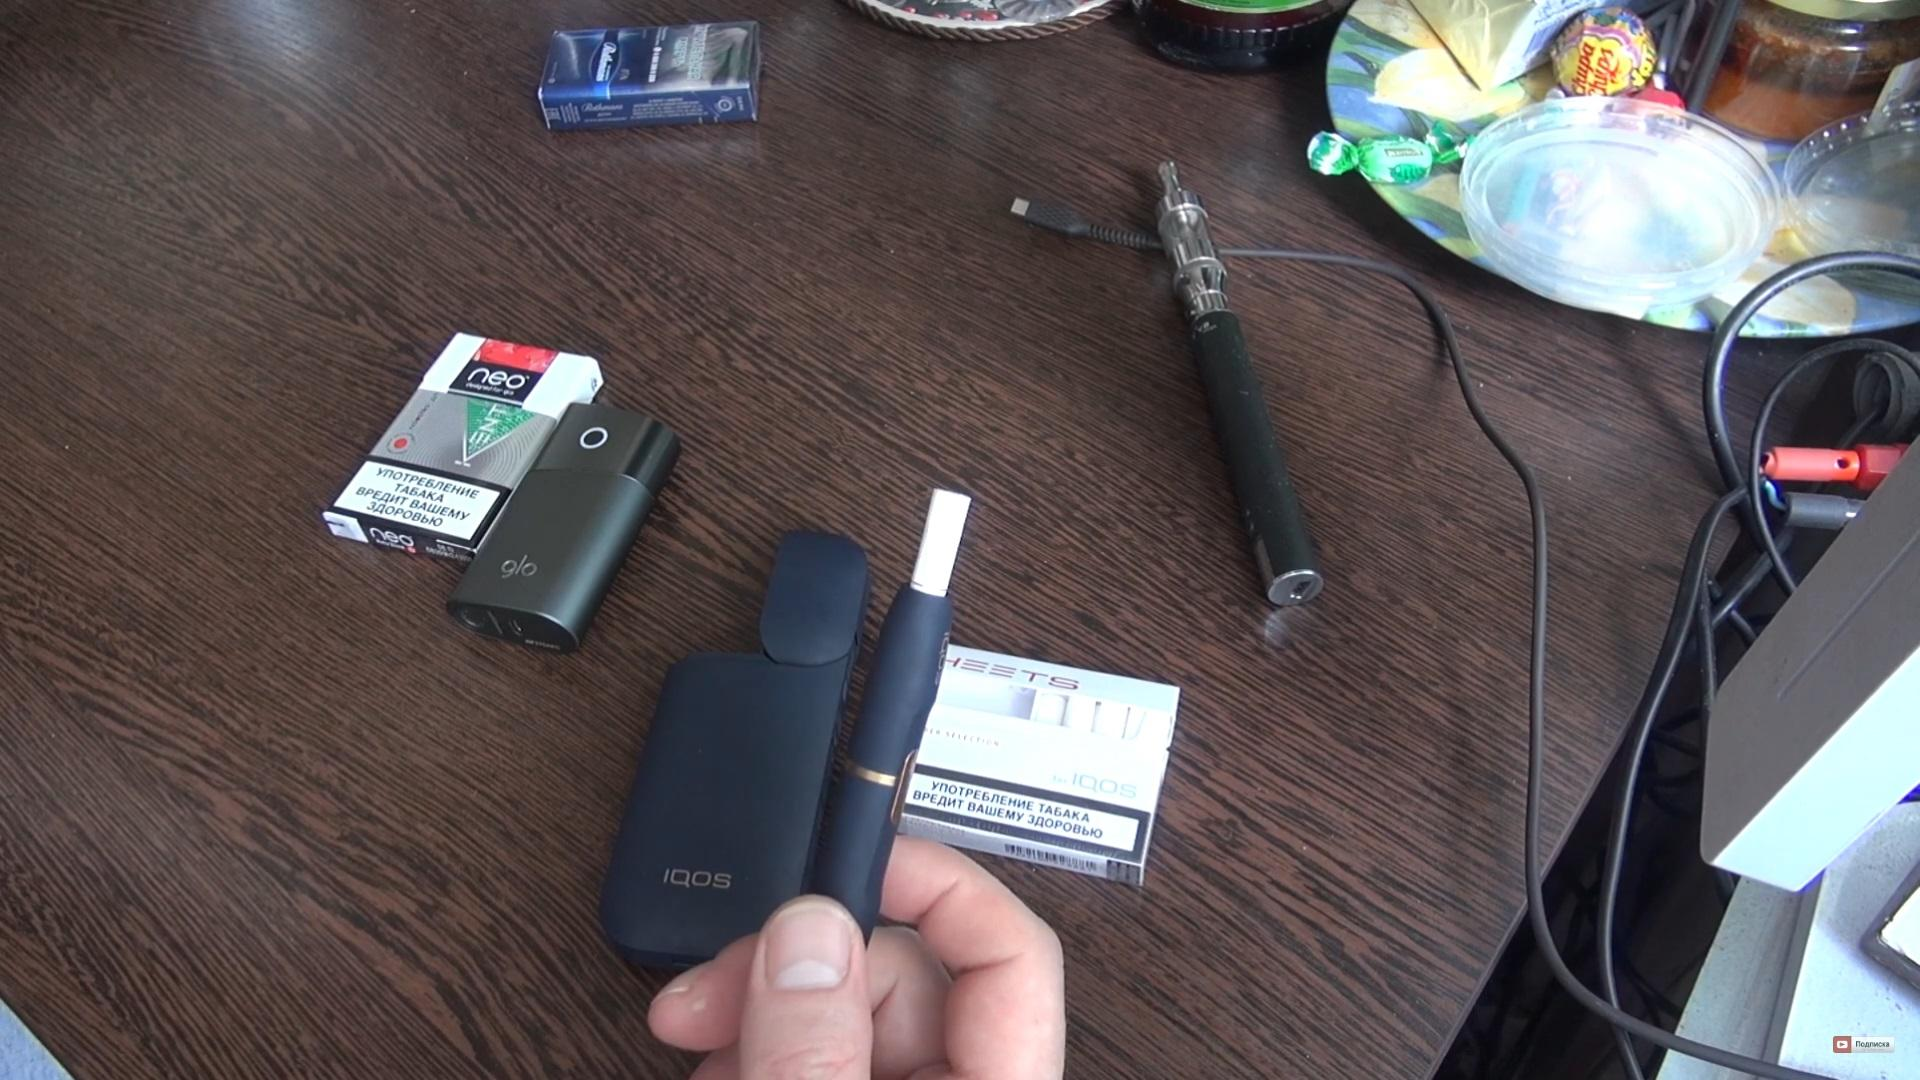Vape: (1158, 161, 1323, 608)
iqos: (812, 489, 971, 945)
